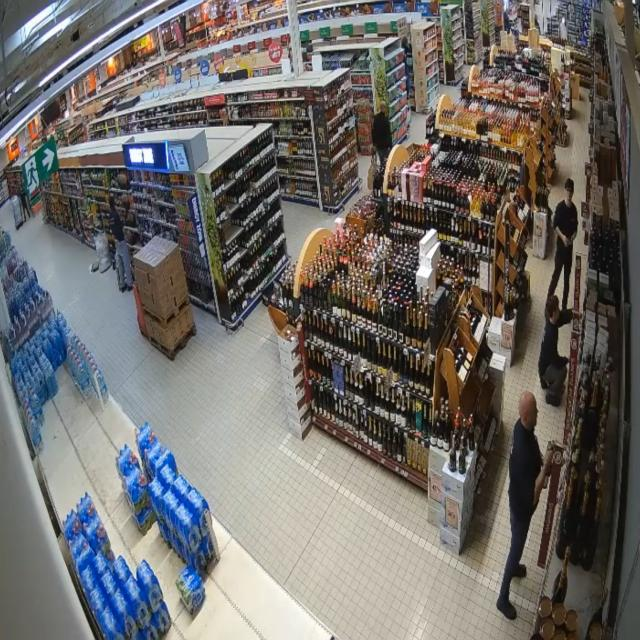article: (543, 473, 550, 489)
bags: (368, 151, 378, 190)
hands: (544, 450, 553, 473), (563, 236, 571, 246), (570, 232, 577, 243)
person: (497, 392, 552, 619), (548, 179, 578, 308), (539, 296, 572, 406), (109, 197, 132, 290), (372, 104, 392, 166)
